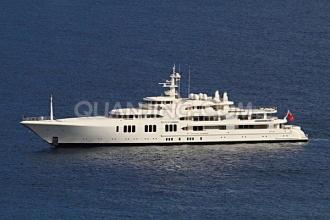yacht: (18, 67, 312, 152)
